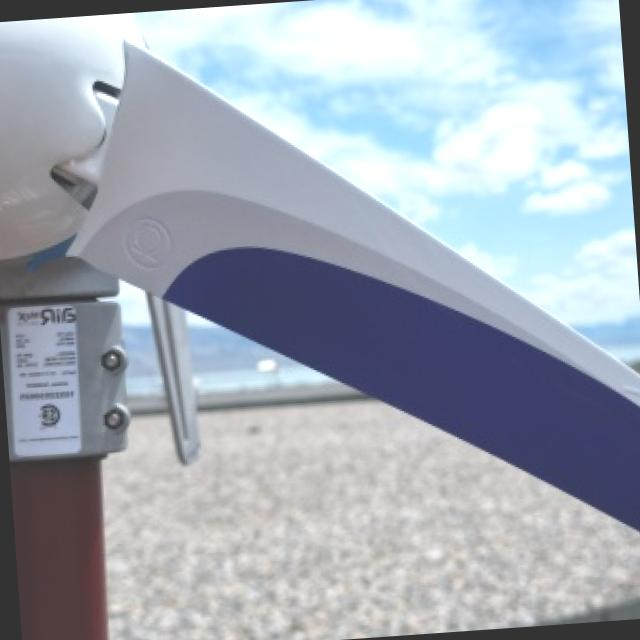healthy: (105, 399, 640, 640)
